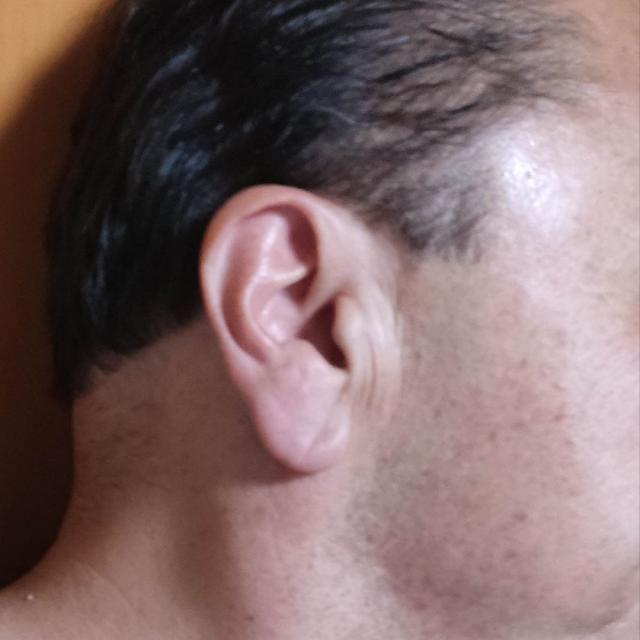ear: (199, 185, 396, 471)
